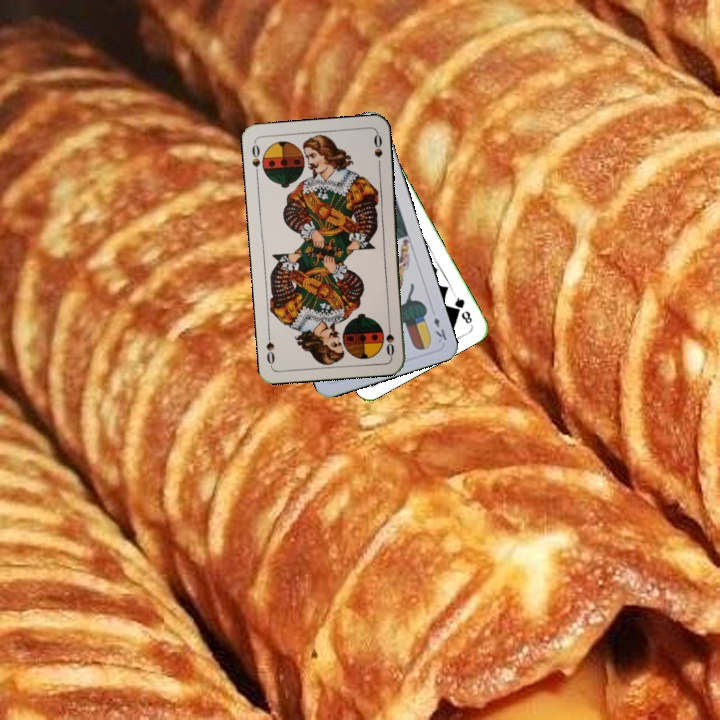EK: (429, 313, 449, 345)
G8: (450, 290, 475, 327)
SO: (382, 318, 397, 359), (248, 139, 262, 179)
